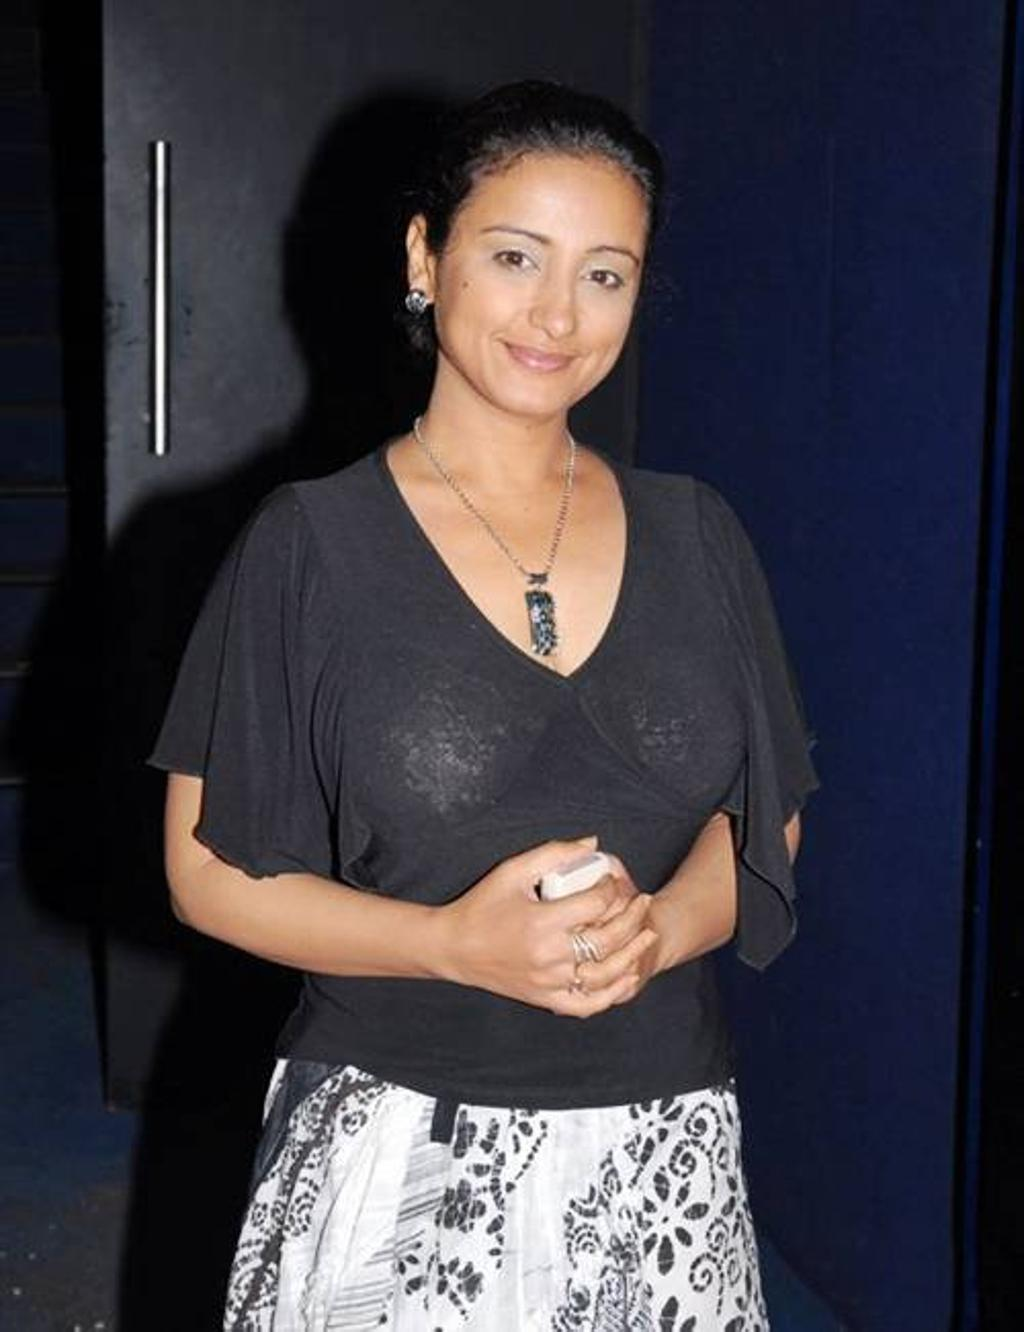face: (439, 156, 647, 413)
